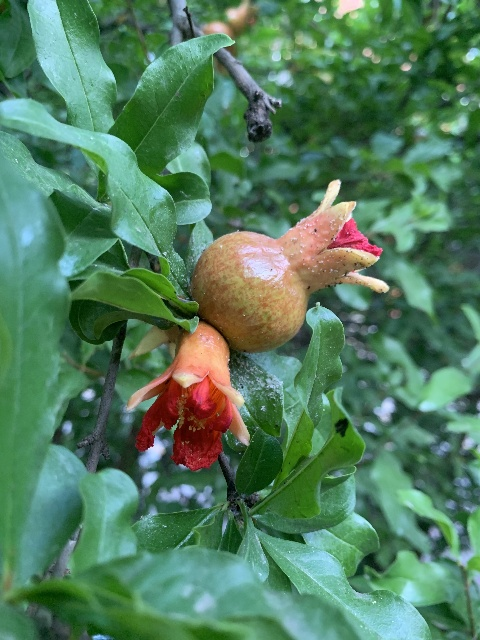early-fruit: (192, 177, 387, 352), (126, 320, 249, 470)
